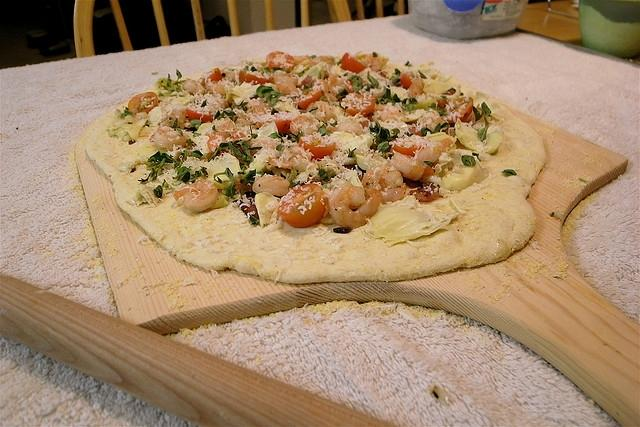tomato: (278, 184, 326, 228), (299, 136, 335, 160), (341, 93, 376, 116), (128, 92, 158, 116), (296, 84, 322, 110), (265, 50, 295, 72), (410, 182, 440, 202), (239, 70, 272, 85), (340, 54, 366, 72), (186, 108, 213, 124), (455, 97, 473, 120), (394, 145, 417, 157), (208, 68, 222, 82), (276, 120, 290, 133), (401, 74, 412, 90), (422, 166, 434, 178)
